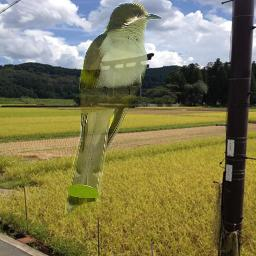Cuckoo: (64, 2, 162, 221)
